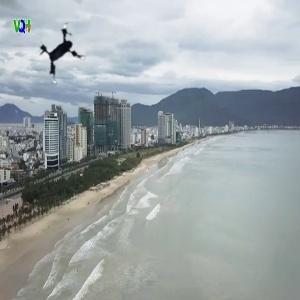drone: (30, 19, 103, 92)
